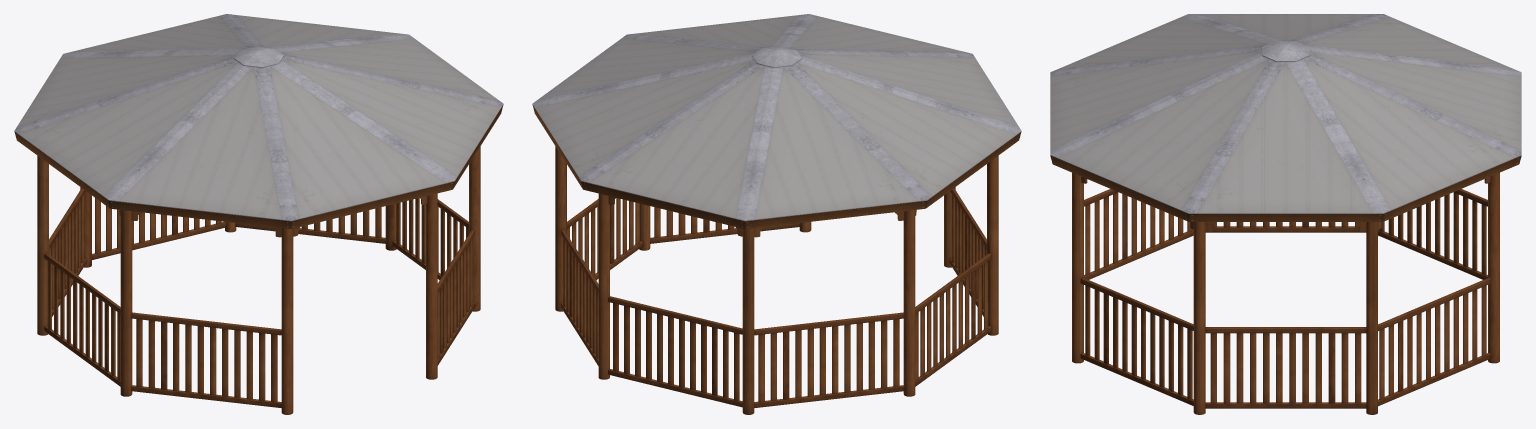
File: GardenGazebo01.FBX
3 views of the same model, side by side, from view 1: azimuth 30°, elevation 25°; view 2: azimuth 150°, elevation 25°; view 3: azimuth 270°, elevation 25° (orthographic). The views are drawn at different scales.
Visible parts, largest first — view 1: GardenGazebo01; view 2: GardenGazebo01; view 3: GardenGazebo01.
Boxes of the visible parts, left/top/right/bottom form: GardenGazebo01: left=14, top=14, right=503, bottom=414; GardenGazebo01: left=532, top=14, right=1021, bottom=414; GardenGazebo01: left=1050, top=14, right=1521, bottom=414.
Size of what is drawn, in the model's own units: 5.34 by 3.49 by 5.34.
